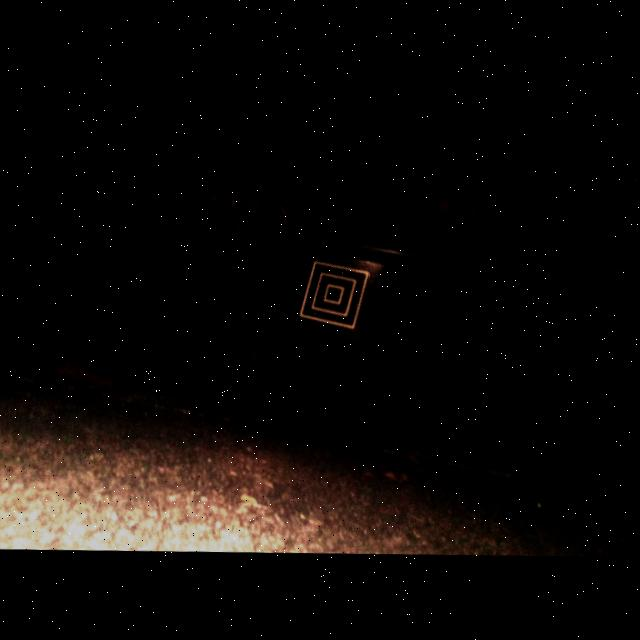BULLSEYE: (300, 263, 369, 331)
